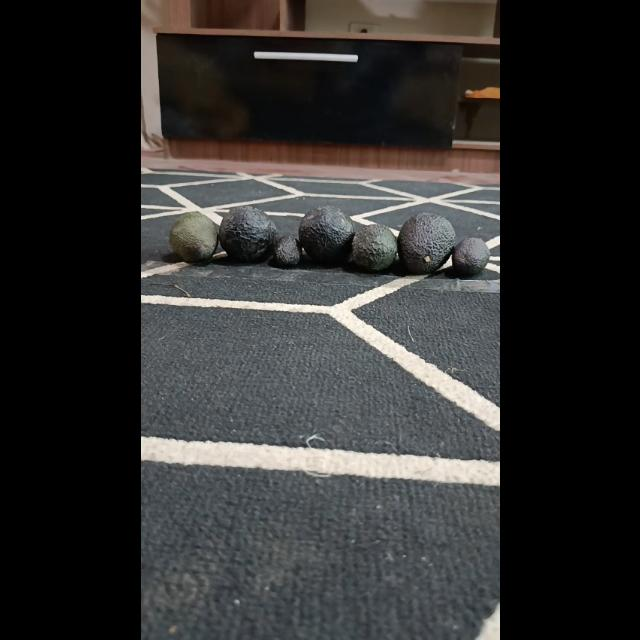Primera: (398, 212, 457, 274), (218, 205, 276, 262), (298, 205, 354, 263)
Segunda: (166, 211, 218, 263), (349, 224, 396, 272)
Tercera: (450, 236, 490, 278), (269, 233, 301, 267)
